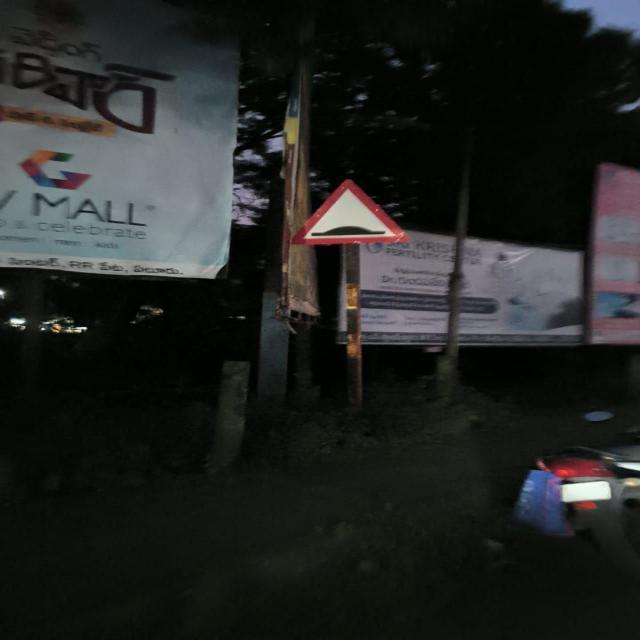hump or rough road: (290, 178, 408, 244)
